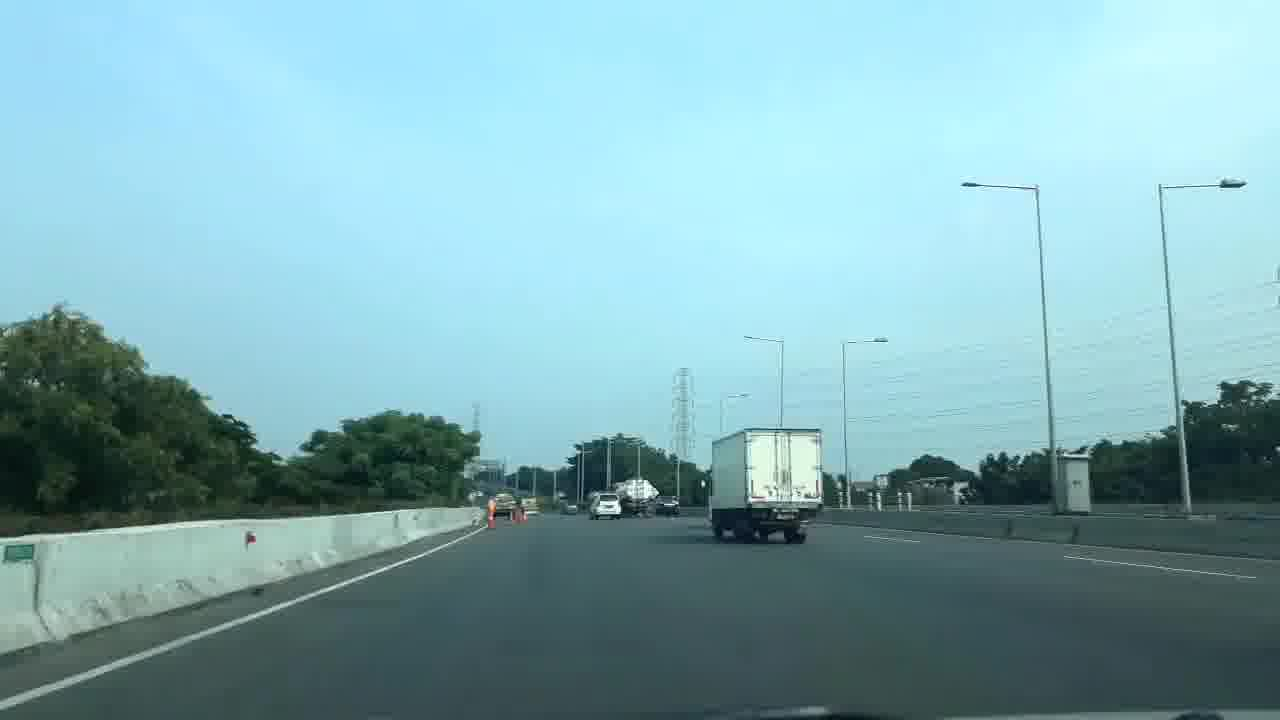plate_positive: (775, 513, 796, 520)
